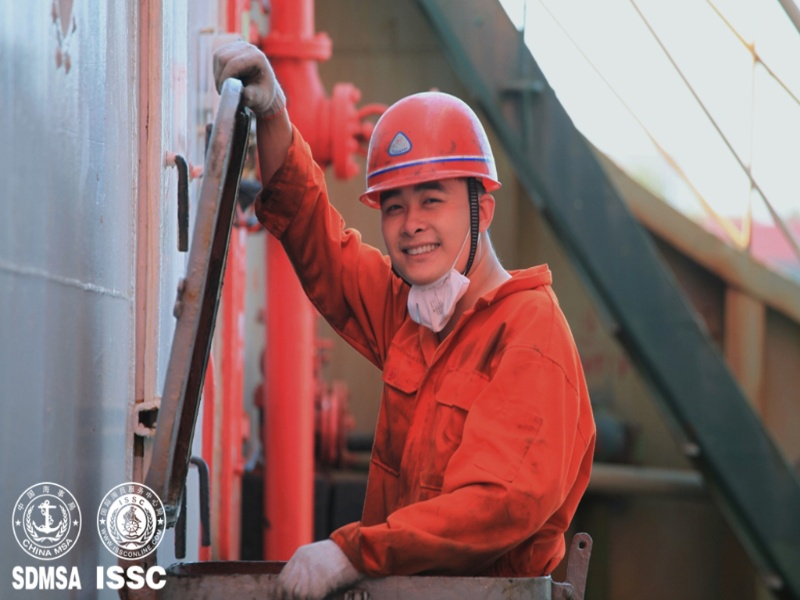Baret: (365, 91, 497, 189)
